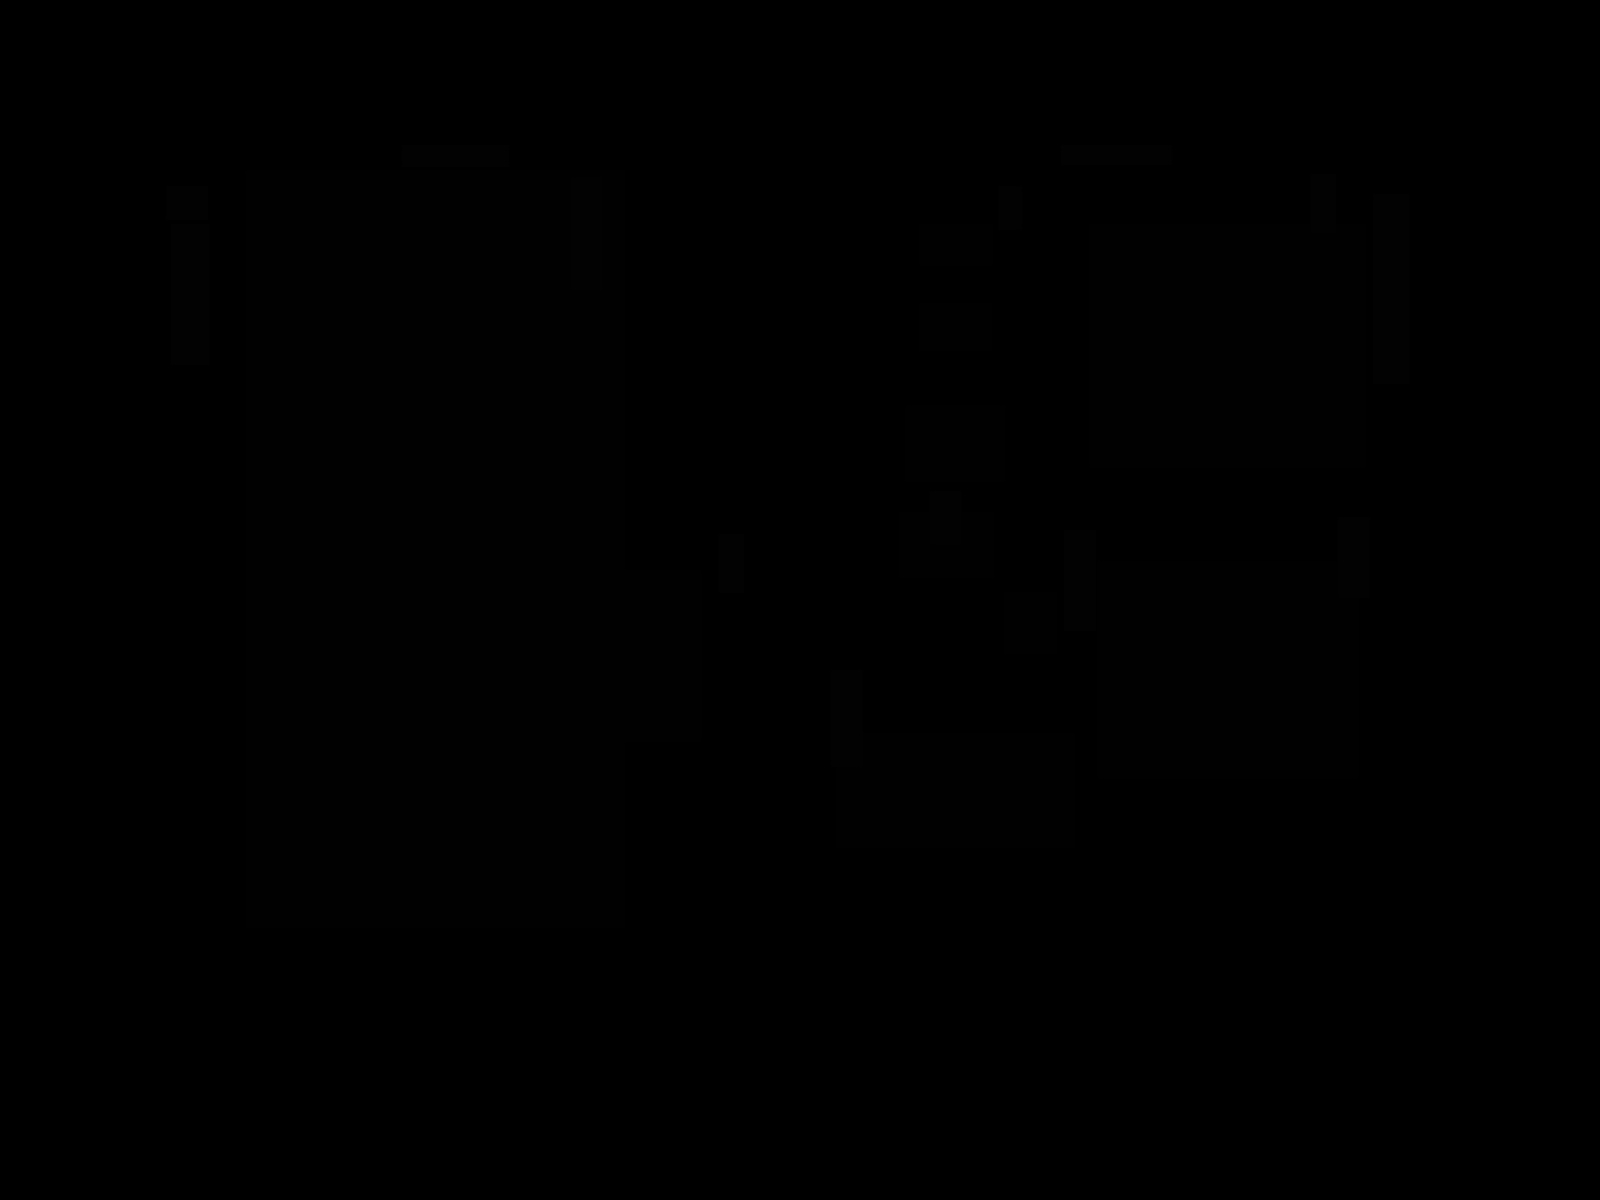1_overall: (68, 63, 1509, 1007)
3_typography: (1373, 194, 1409, 384), (171, 224, 210, 366), (571, 176, 602, 290), (1065, 529, 1096, 632), (831, 671, 863, 766), (1338, 517, 1369, 597), (402, 145, 509, 166), (1061, 145, 1172, 165), (930, 492, 961, 545), (719, 534, 745, 592), (1311, 174, 1335, 233), (998, 187, 1022, 229)
4_illustration: (246, 170, 625, 928), (1089, 224, 1366, 468), (1097, 561, 1359, 779), (837, 734, 1075, 848), (557, 570, 702, 742), (905, 405, 1005, 482), (900, 512, 994, 579), (918, 303, 991, 350), (1004, 592, 1057, 654), (918, 224, 993, 266)
5_stamp: (166, 187, 208, 221)
